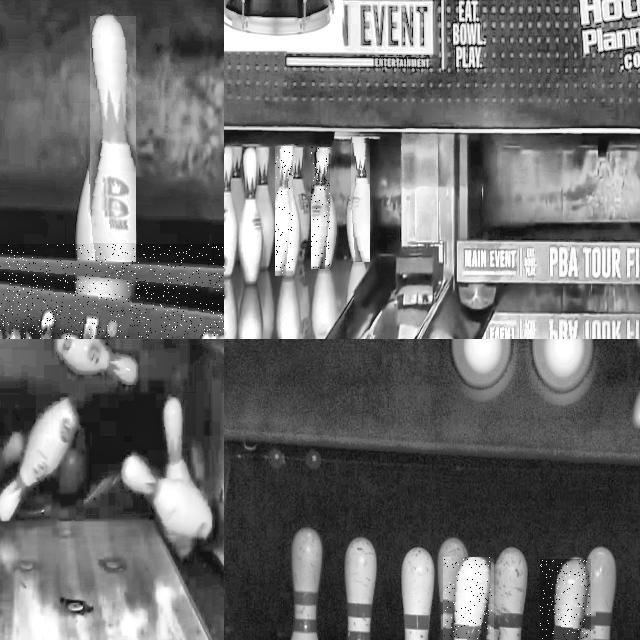bowling-pins: (91, 17, 135, 263), (290, 528, 322, 640), (237, 147, 262, 284), (438, 538, 469, 640), (346, 537, 376, 640), (402, 547, 434, 640), (497, 547, 528, 640), (587, 546, 617, 640), (557, 559, 591, 640), (459, 557, 492, 640), (351, 137, 370, 260), (255, 146, 274, 269), (311, 148, 330, 268), (275, 147, 293, 273), (292, 146, 310, 262), (224, 146, 237, 277), (230, 145, 244, 222)
